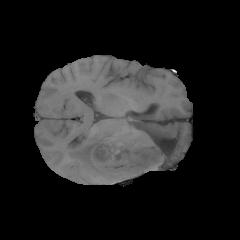glioma: (66, 118, 182, 180)
